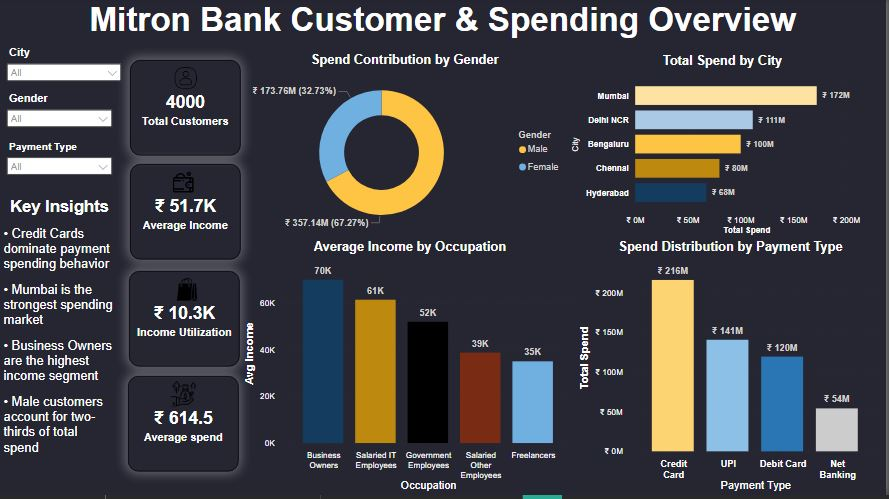

Layout of this report page (visuals, bound fields, positions):
{"tool":"powerbi","page":{"name":"Customer & Spending Overview","canvas":[1280,720],"ordinal":0},"visuals":[{"type":"card","fields":{"Values":["Count(dim_customers.customer_id)"]},"box":[188.3,91.7,160,138.3],"z":0,"group":"g1"},{"type":"clusteredColumnChart","title":"Spend Distribution by Payment Type","fields":{"Category":["fact_spends.payment_type"],"Y":["Sum(fact_spends.spend)"]},"box":[833.3,350,446.7,370],"z":0},{"type":"card","fields":{"Values":["Avg(dim_customers.avg_income)"]},"box":[188.3,241.7,160,138.3],"z":1000,"group":"g2"},{"type":"clusteredColumnChart","title":"Average Income by Occupation","fields":{"Category":["dim_customers.occupation"],"Y":["dim_customers.Avg Income"]},"box":[348.3,350,488.3,370],"z":1000},{"type":"clusteredBarChart","fields":{"Category":["dim_customers.city"],"Y":["dim_customers.Total Spend"]},"box":[821.7,81.7,446.7,268.3],"z":2000},{"type":"card","fields":{"Values":["Avg(fact_spends.spend)"]},"box":[185,548.3,160,138.3],"z":2000,"group":"g3"},{"type":"donutChart","title":"Spend Contribution by Gender","fields":{"Category":["dim_customers.gender"],"Y":["dim_customers.Total Spend"]},"box":[348.3,80,473.3,270],"z":3000},{"type":"card","fields":{"Values":["dim_customers.Income Utilization"]},"box":[186.7,396.7,160,138.3],"z":3000,"group":"g4"},{"type":"group","id":"g1","title":"Group 1","box":[188.3,91.7,160,138.3],"z":4000},{"type":"group","id":"g2","title":"Group 2","box":[188.3,241.7,160,138.3],"z":5000},{"type":"group","id":"g3","title":"Group 3","box":[185,548.3,160,138.3],"z":6000},{"type":"group","id":"g4","title":"Group 4","box":[186.7,396.7,160,138.3],"z":7000},{"type":"slicer","fields":{"Values":["dim_customers.city"]},"box":[0,66.7,185,66.7],"z":8000},{"type":"image","box":[238.3,101.7,60,31.7],"z":8000,"group":"g1"},{"type":"textbox","box":[0,0,1280,80],"z":9000},{"type":"image","box":[230.9,251.7,69.8,31.7],"z":9000,"group":"g2"},{"type":"slicer","fields":{"Values":["dim_customers.gender"]},"box":[0,133.3,171.7,70],"z":10000},{"type":"image","box":[236.7,406.7,66.7,33.3],"z":10000,"group":"g4"},{"type":"slicer","fields":{"Values":["fact_spends.payment_type"]},"box":[0,203.3,171.7,80],"z":11000},{"type":"image","box":[235.5,555,58.9,36.7],"z":11000,"group":"g3"},{"type":"textbox","box":[0,283.3,171.7,436.7],"z":12000}]}

Visuals, with their boxes in screenshot pixels (x1, y1, x2, y2), scaled from the page's 1280x720 canvas onto the 889x499 screenshot:
card - Count(dim_customers.customer_id): bbox=(131, 64, 242, 159)
"Spend Distribution by Payment Type" clusteredColumnChart: bbox=(579, 243, 888, 498)
card - Avg(dim_customers.avg_income): bbox=(131, 168, 242, 263)
"Average Income by Occupation" clusteredColumnChart: bbox=(242, 243, 581, 498)
clusteredBarChart - dim_customers.city x dim_customers.Total Spend: bbox=(571, 57, 881, 243)
card - Avg(fact_spends.spend): bbox=(128, 380, 240, 476)
"Spend Contribution by Gender" donutChart: bbox=(242, 55, 571, 243)
card - dim_customers.Income Utilization: bbox=(130, 275, 241, 371)
"Group 1" group: bbox=(131, 64, 242, 159)
"Group 2" group: bbox=(131, 168, 242, 263)
"Group 3" group: bbox=(128, 380, 240, 476)
"Group 4" group: bbox=(130, 275, 241, 371)
slicer - dim_customers.city: bbox=(0, 46, 128, 92)
image: bbox=(166, 70, 207, 92)
textbox: bbox=(0, 0, 888, 55)
image: bbox=(160, 174, 209, 196)
slicer - dim_customers.gender: bbox=(0, 92, 119, 141)
image: bbox=(164, 282, 211, 305)
slicer - fact_spends.payment_type: bbox=(0, 141, 119, 196)
image: bbox=(164, 385, 204, 410)
textbox: bbox=(0, 196, 119, 498)
